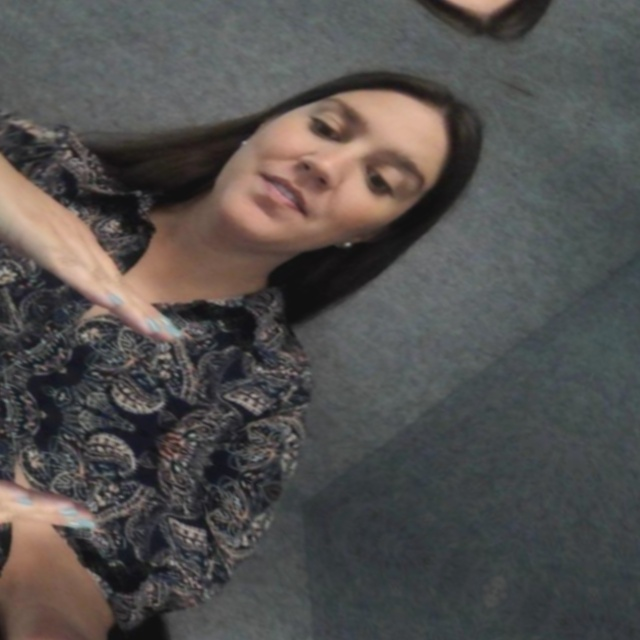Paper: (0, 344, 161, 640)
